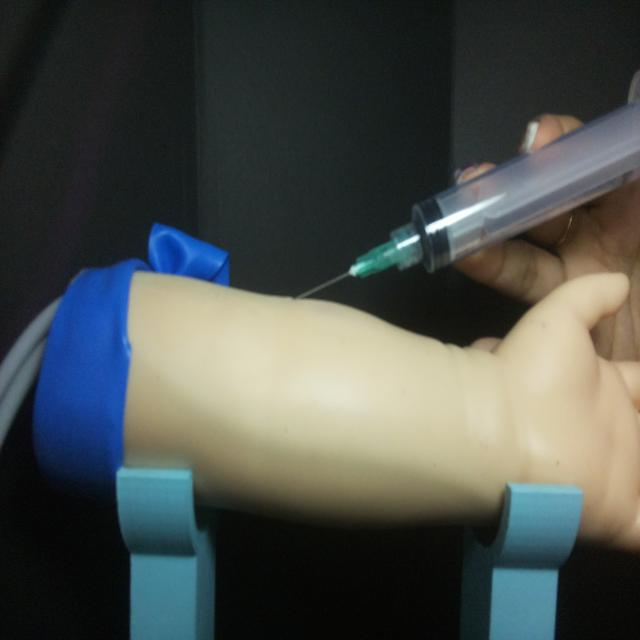16deg: (289, 68, 640, 300)
